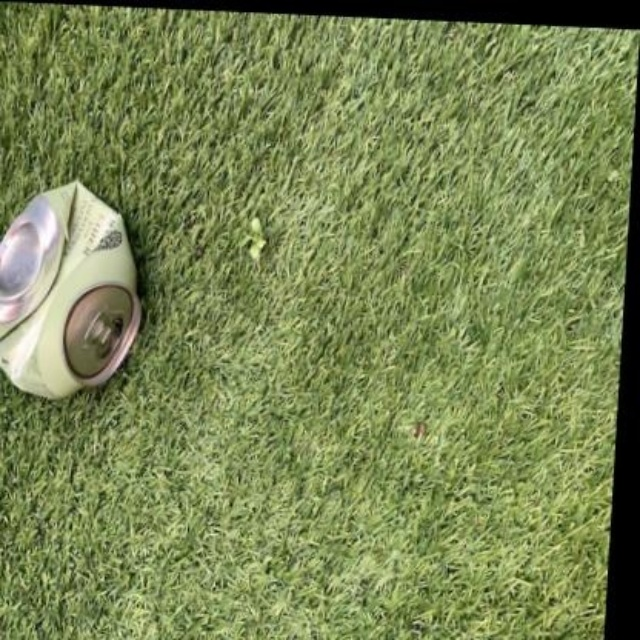trash: (0, 182, 140, 397)
